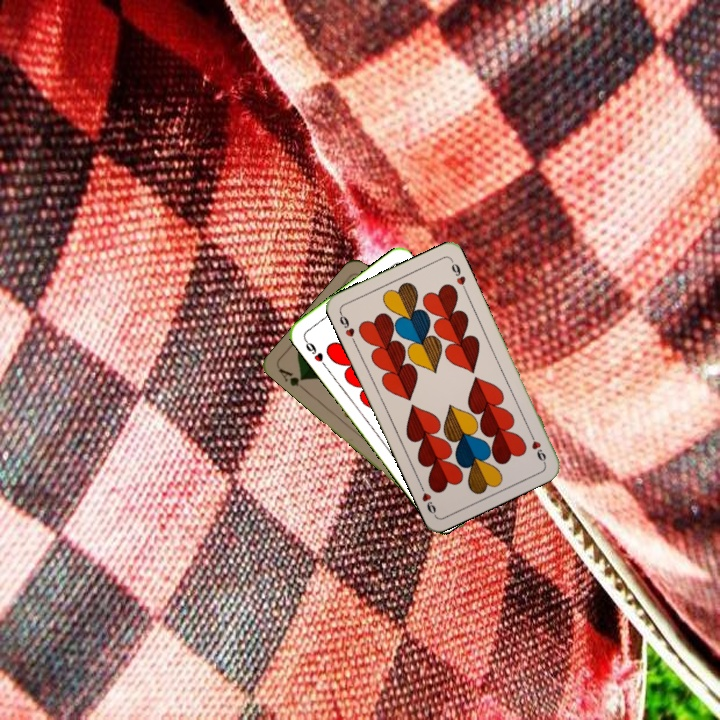GA: (275, 364, 309, 394)
H9: (300, 334, 329, 369), (525, 427, 549, 466), (335, 308, 358, 346)
